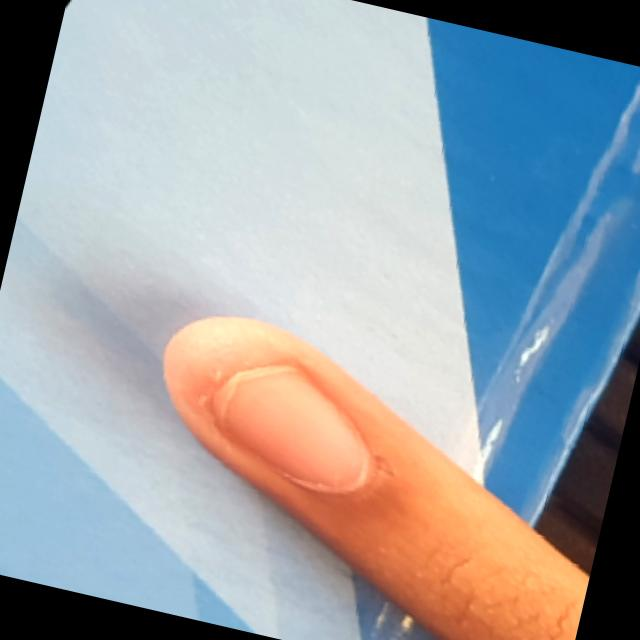Nail: (208, 363, 367, 487)
